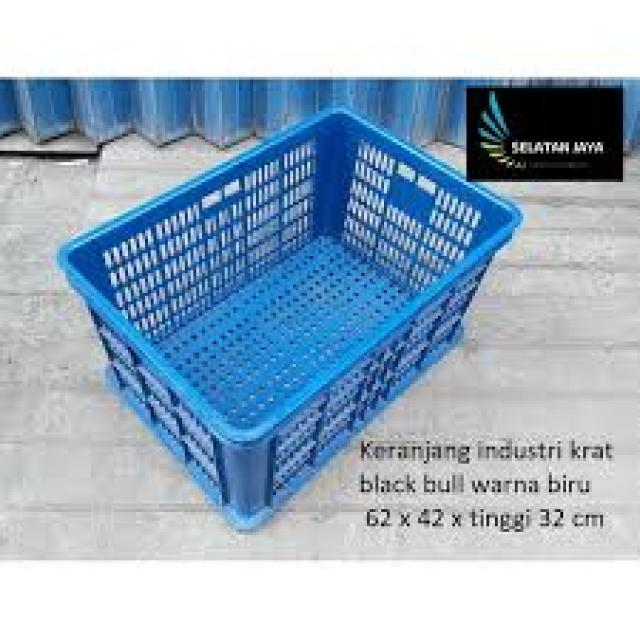basket: (18, 5, 557, 538)
